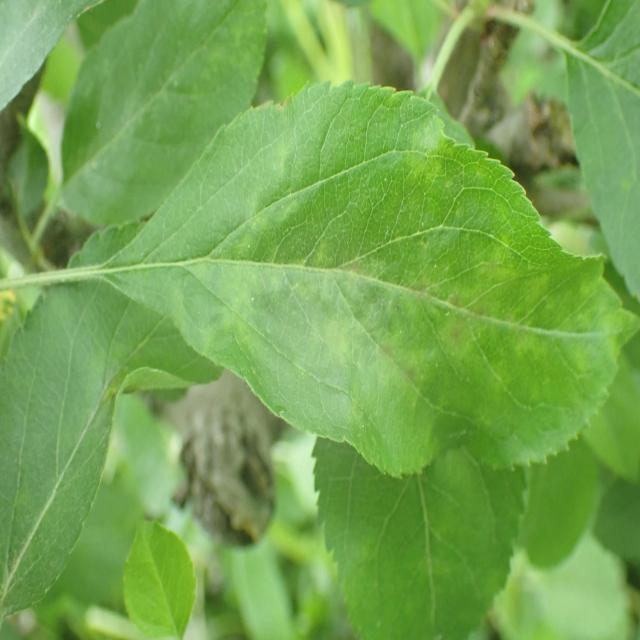scab: (151, 152, 605, 427)
